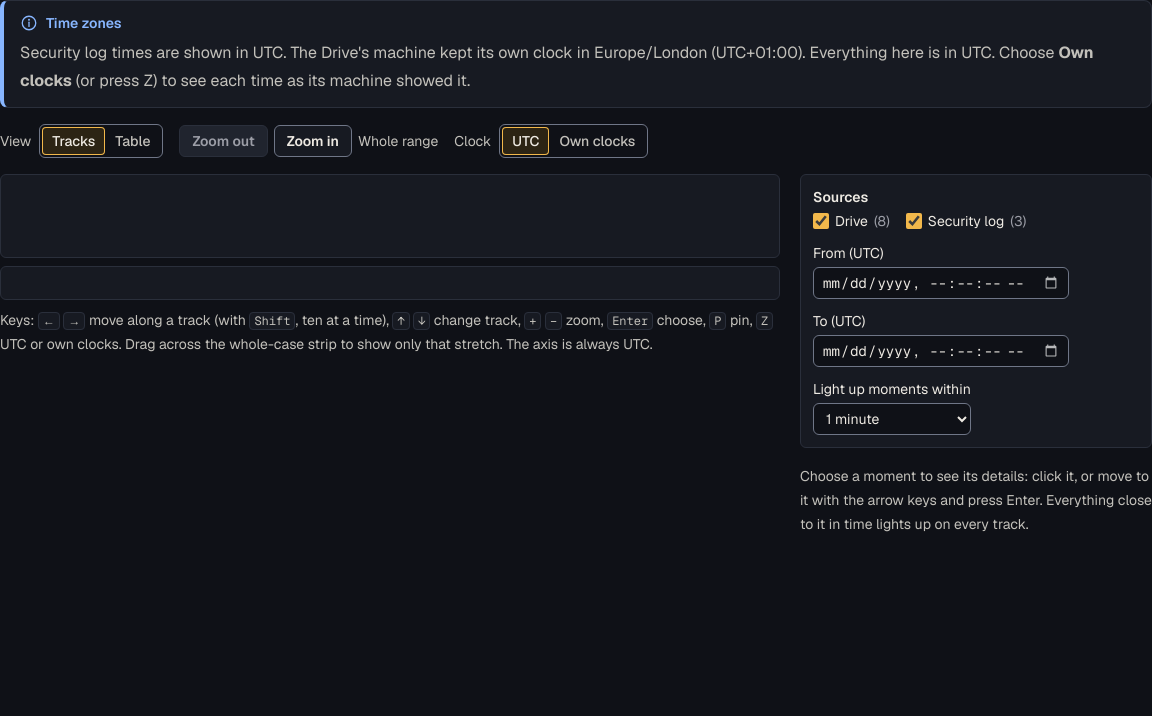
Test: one selection, two views › lights up the moments near the chosen one in the table, in words
The width and height of the screenshot is (1152, 716).
Click the button "Table".
click(133, 141)  # box [105,127,160,155]
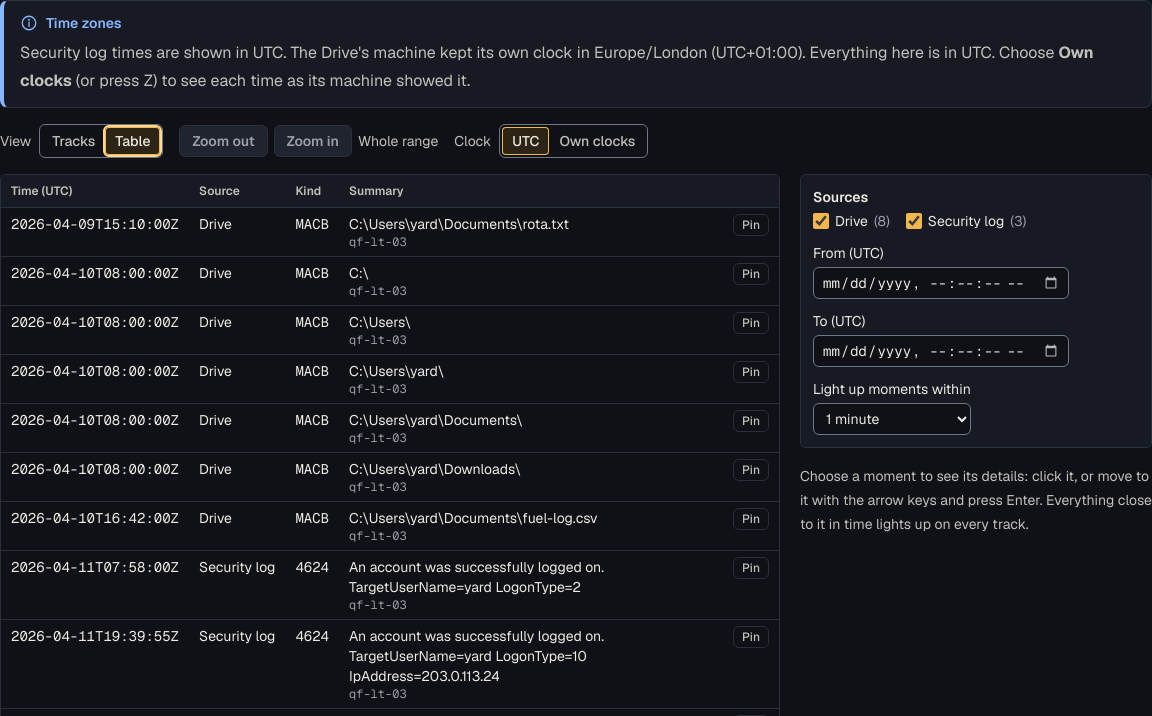
Select "30 minutes" in the dropdown labelled "Light up moments within" at (892, 419), box [813,403,971,435]
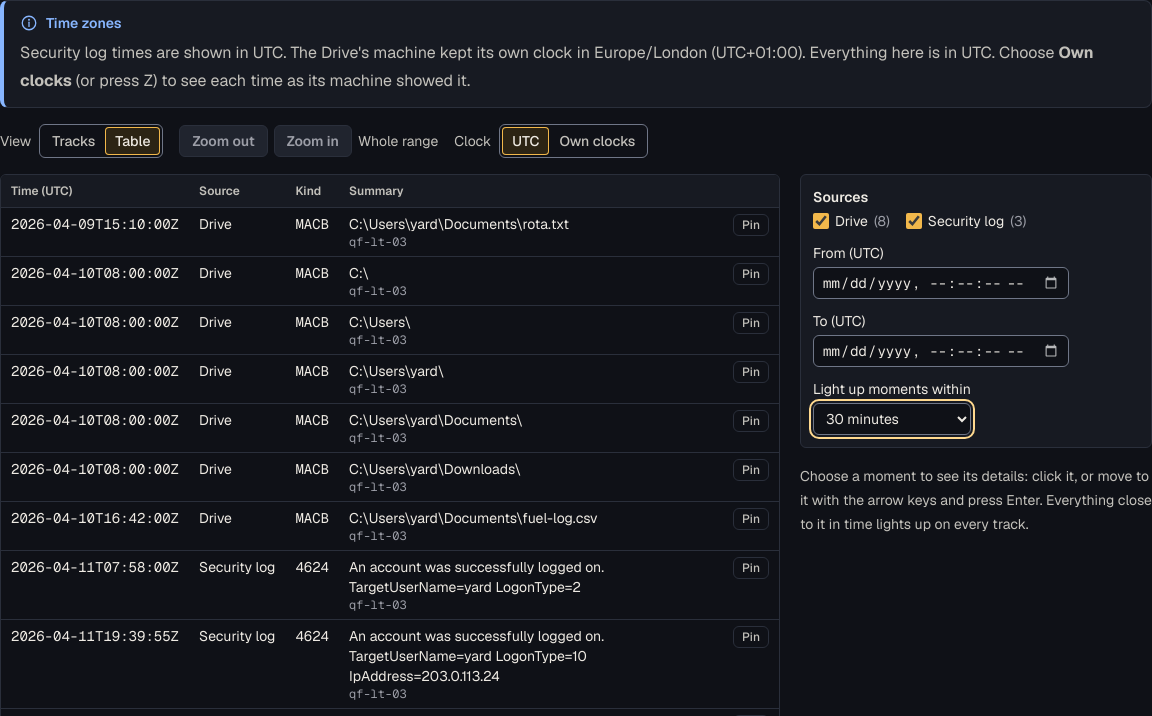
Click the row "2026-04-10T08:00:00Z Drive MACB C:\\ qf-lt-03 Pin".
click(390, 281)  # box [1,256,779,306]
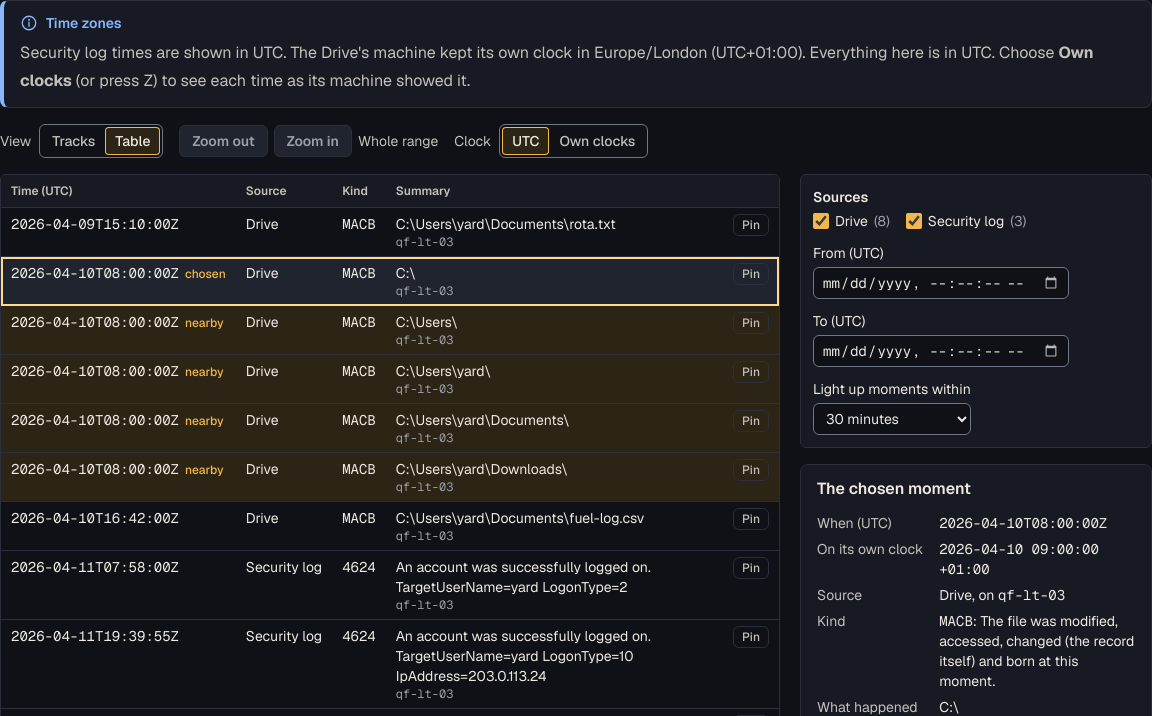
Expected: the row that starts with "2026-04-10T08:00:00Z" shows "chosen", [185,266,226,282]
